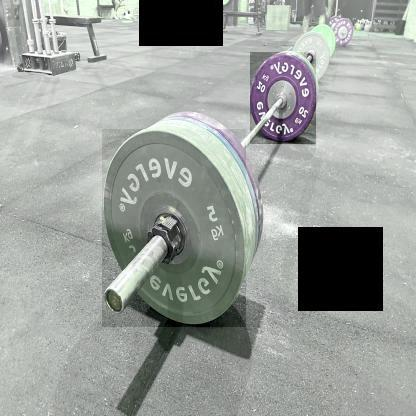barbell: (100, 131, 244, 328), (249, 52, 315, 144)
